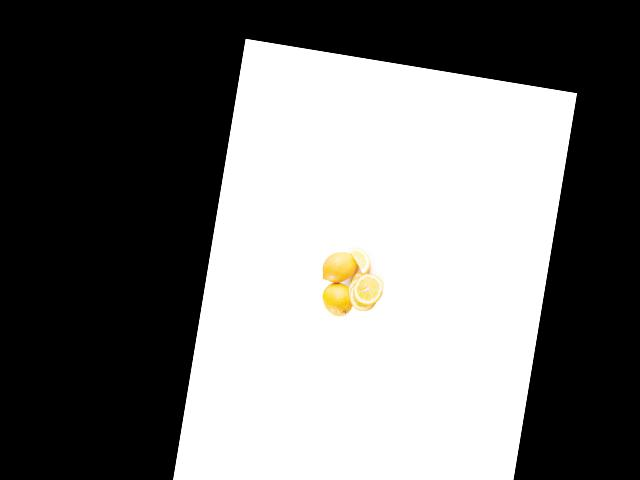lemon: (319, 277, 354, 317)
